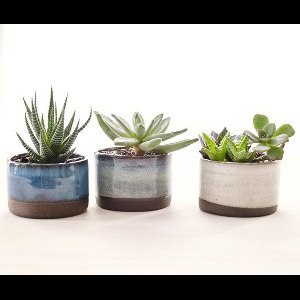flowerpot: (198, 149, 280, 217), (7, 154, 90, 219), (96, 147, 172, 212)
